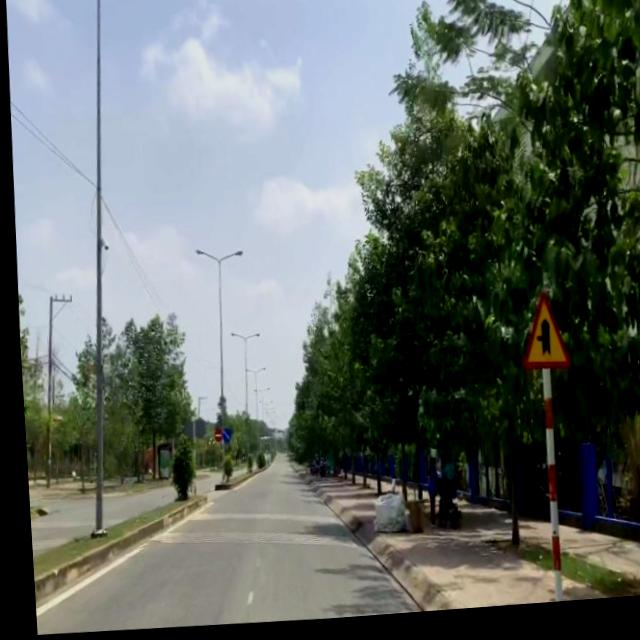Cam di nguoc chieu: (208, 430, 217, 446)
Giao nhau voi duong khong uu tien ben trai: (512, 296, 569, 380)
Vong chuong ngai vat sang phai: (215, 431, 225, 446)
